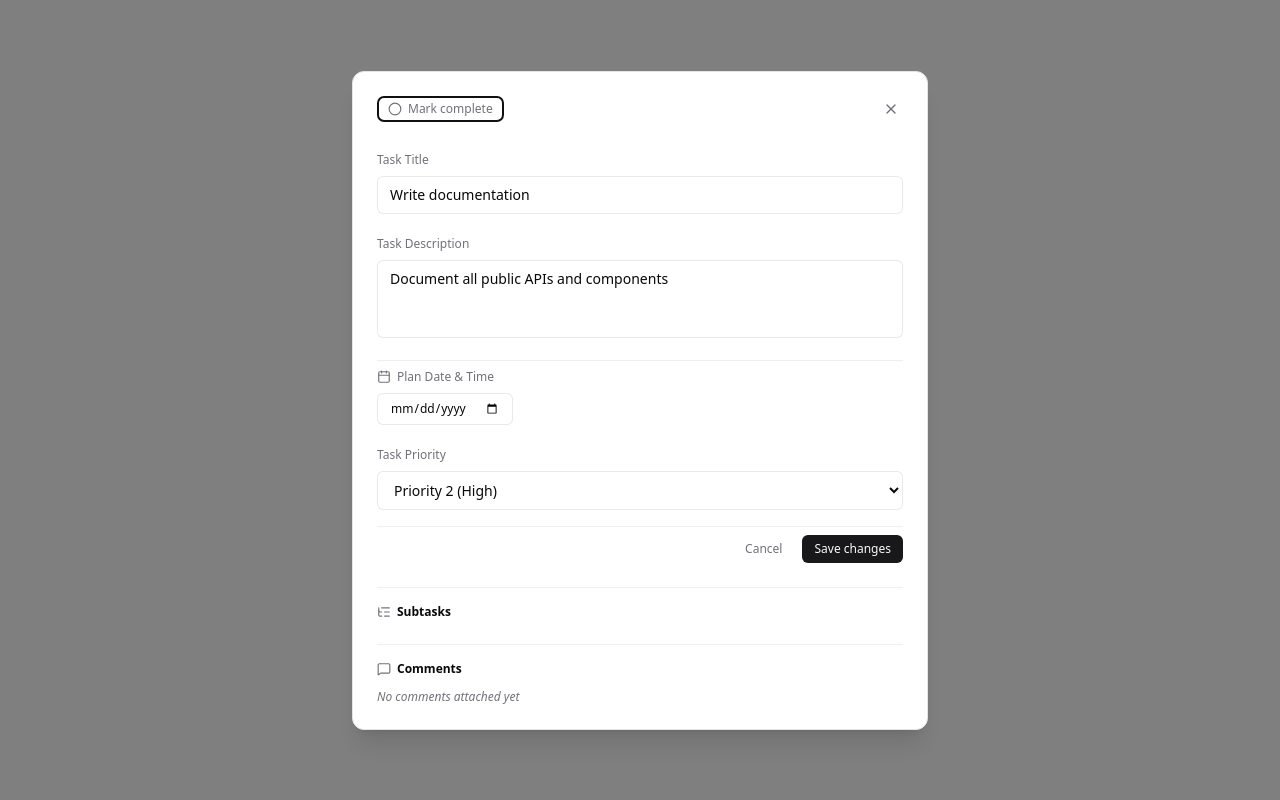
Scenario: TaskDetailModal Component › displays conflict error when save rejects with version conflict
The image size is (1280, 800).
Click the button "Save changes" at (853, 548), box 802,534 -> 903,562
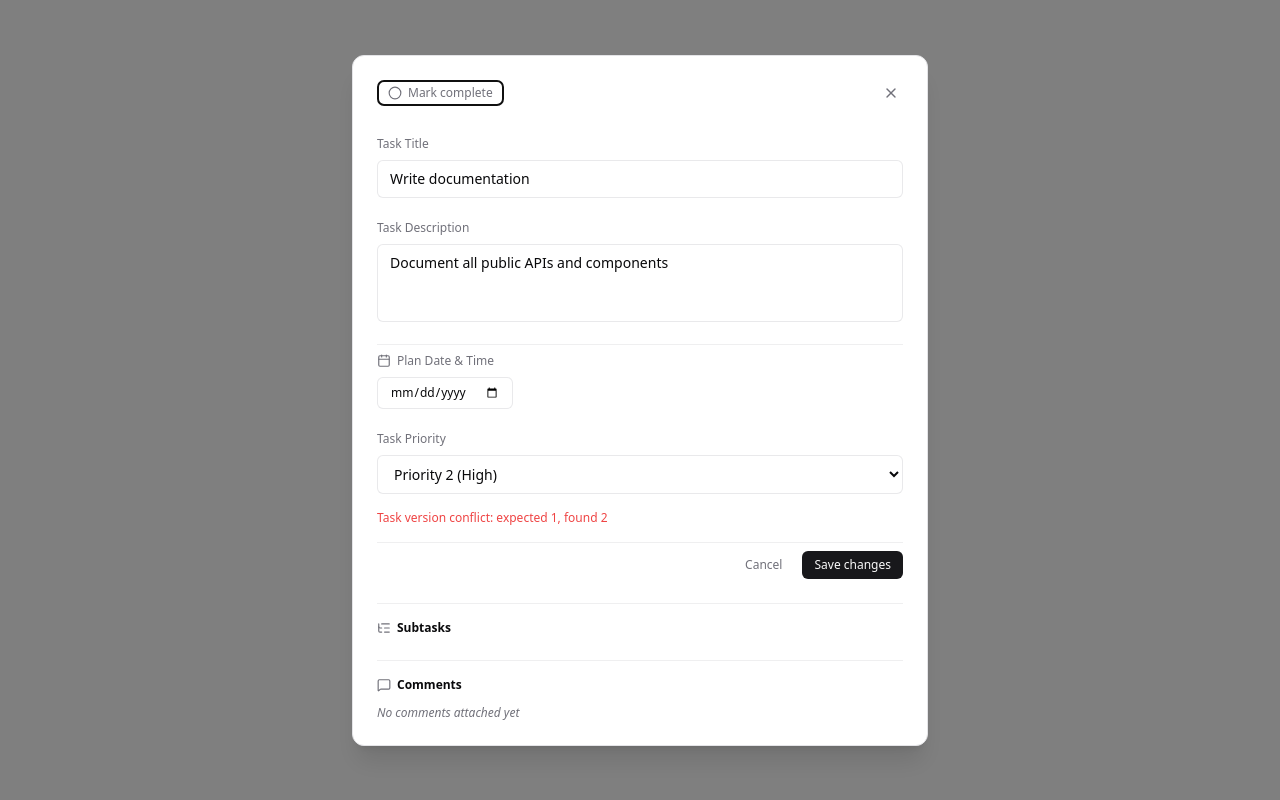
expect the text "Task version conflict: expected 1, found 2" is shown: met, box 377,508 -> 608,526
